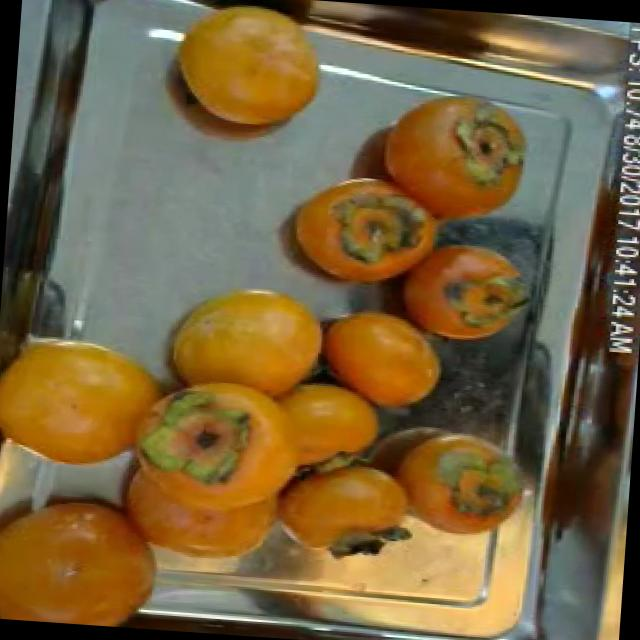Fruit: (141, 262, 348, 440), (0, 309, 193, 486), (145, 0, 344, 168), (375, 218, 545, 357), (296, 290, 463, 422)
